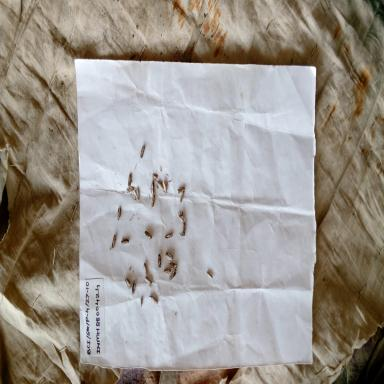pbw: (166, 261, 180, 272), (168, 269, 178, 282), (125, 170, 132, 188), (115, 205, 122, 223), (176, 183, 185, 197), (177, 210, 186, 223), (133, 186, 141, 200), (139, 144, 146, 160), (156, 252, 162, 270), (179, 190, 186, 204), (111, 233, 117, 249), (124, 277, 132, 289), (149, 295, 158, 305), (144, 230, 153, 240), (151, 193, 156, 210), (162, 179, 168, 193), (126, 185, 135, 194), (150, 172, 158, 182), (162, 268, 173, 275), (131, 280, 136, 295), (164, 231, 173, 239), (158, 180, 164, 192), (143, 262, 148, 276), (120, 237, 130, 244), (206, 271, 214, 279), (151, 180, 155, 196), (166, 252, 174, 260), (145, 276, 152, 285), (182, 222, 186, 237), (140, 296, 143, 308)
